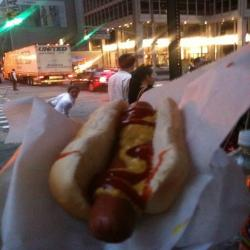hotdog: (49, 84, 202, 249)
